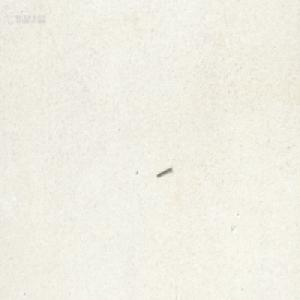Bolt: (155, 164, 171, 176)
